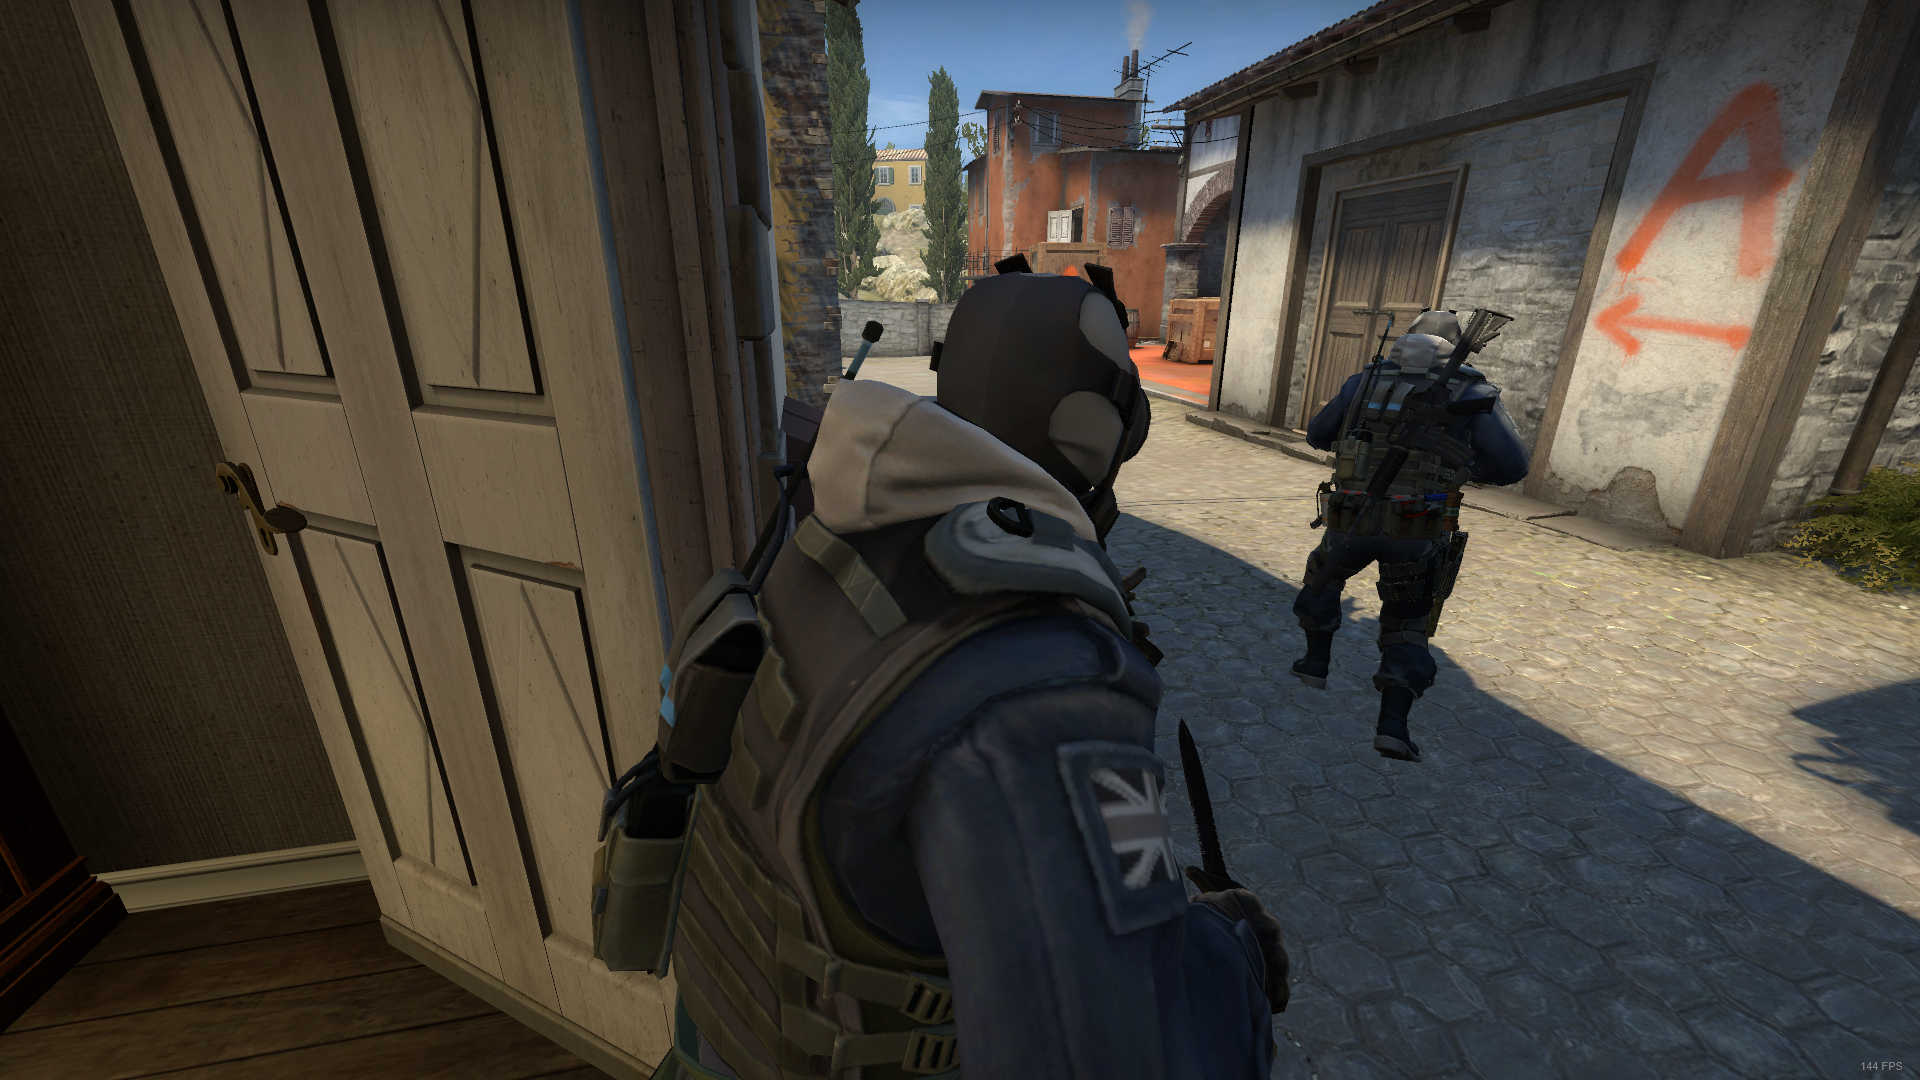ct: (584, 261, 1300, 1077), (1288, 298, 1543, 769)
